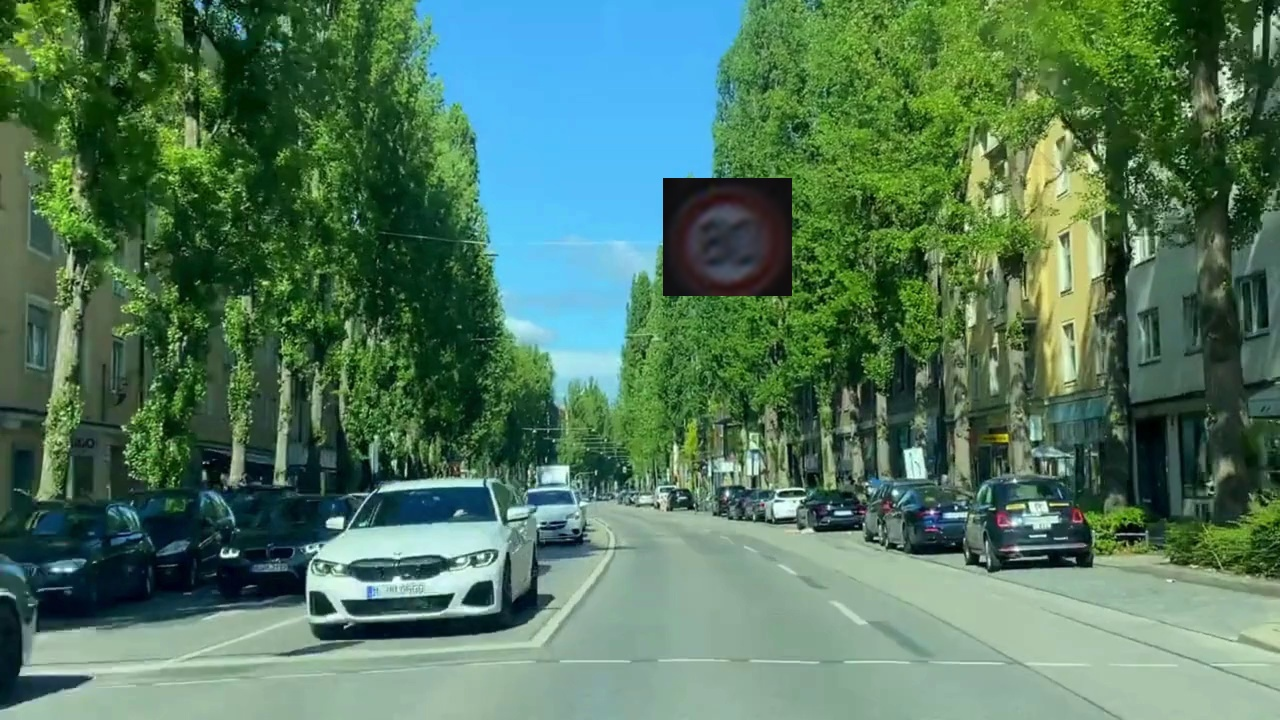Speed 80: (663, 178, 792, 296)
